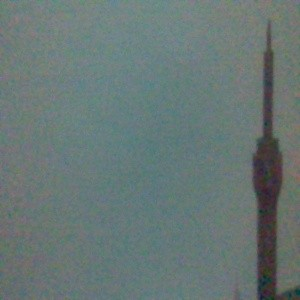solder: (252, 18, 283, 300)
